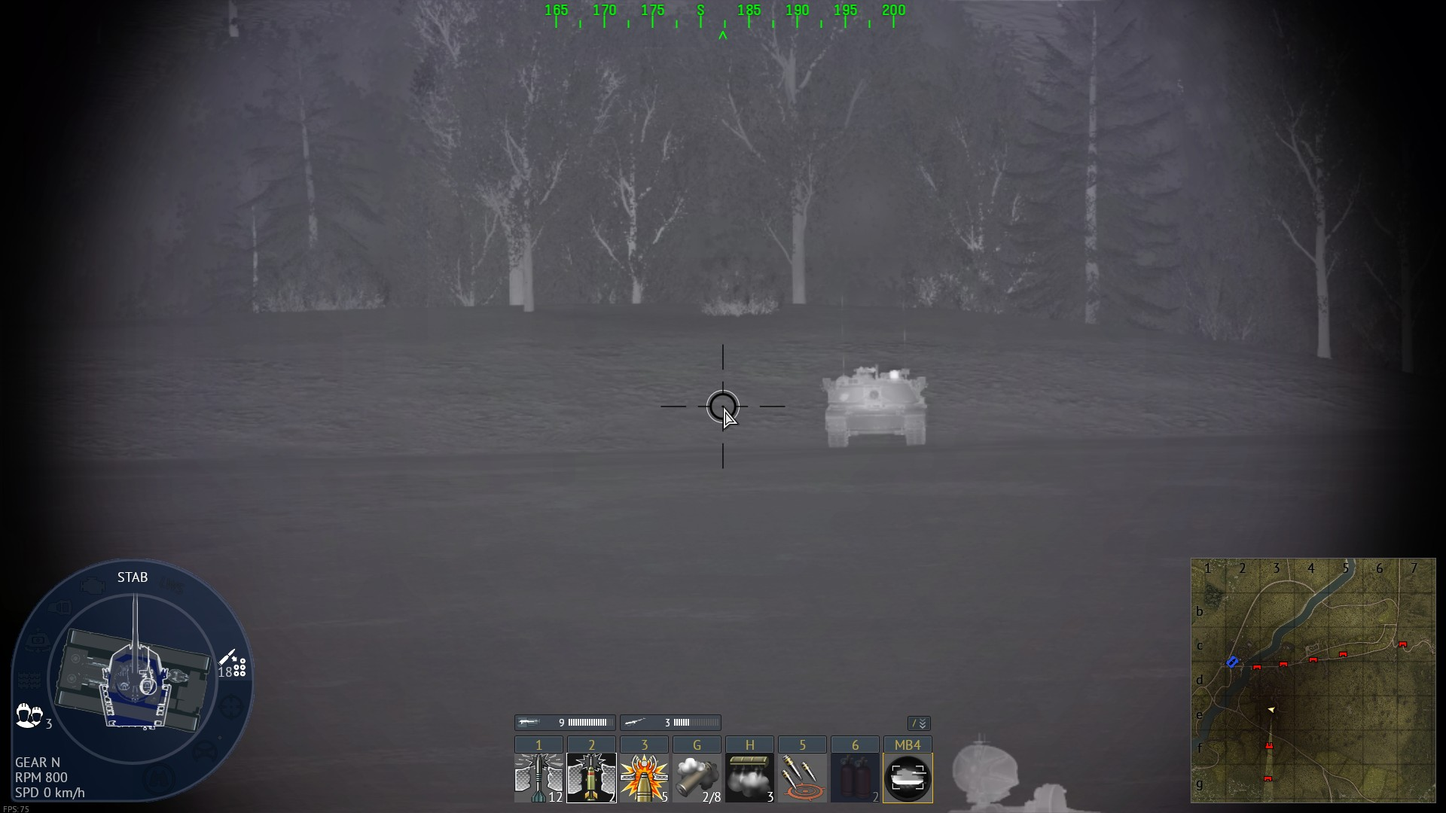abrams: (821, 366, 928, 448)
